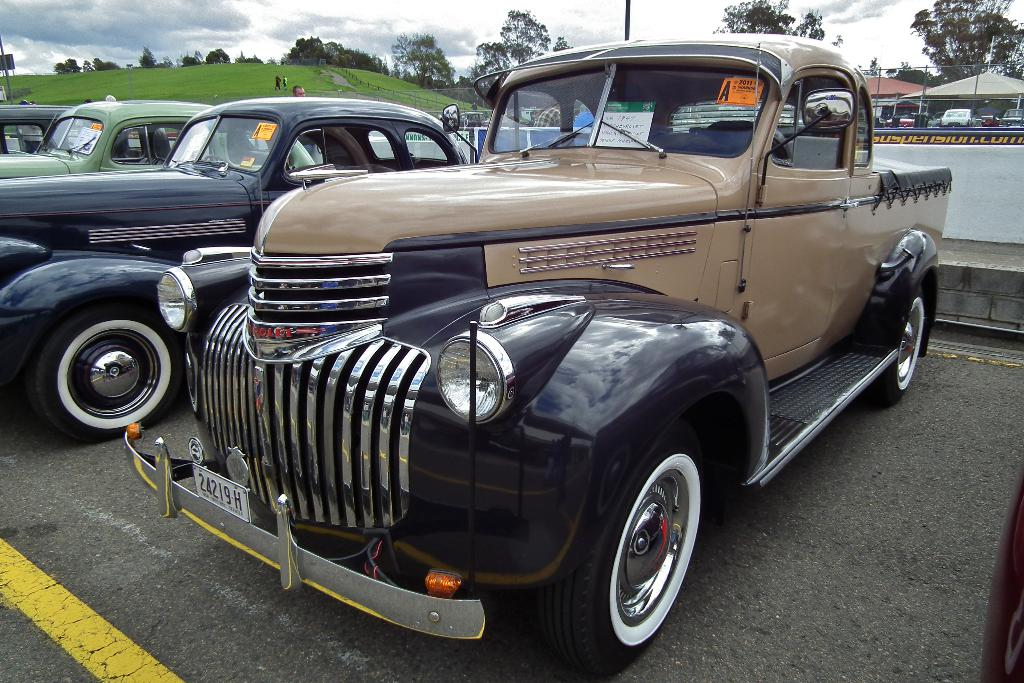Car: (122, 32, 952, 666), (0, 98, 480, 441), (0, 94, 325, 178), (0, 97, 192, 161), (936, 105, 975, 127), (456, 108, 490, 127), (997, 107, 1023, 131), (883, 112, 913, 128), (983, 115, 1000, 128)
